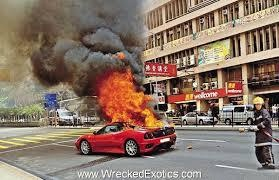fire: (95, 60, 174, 134)
